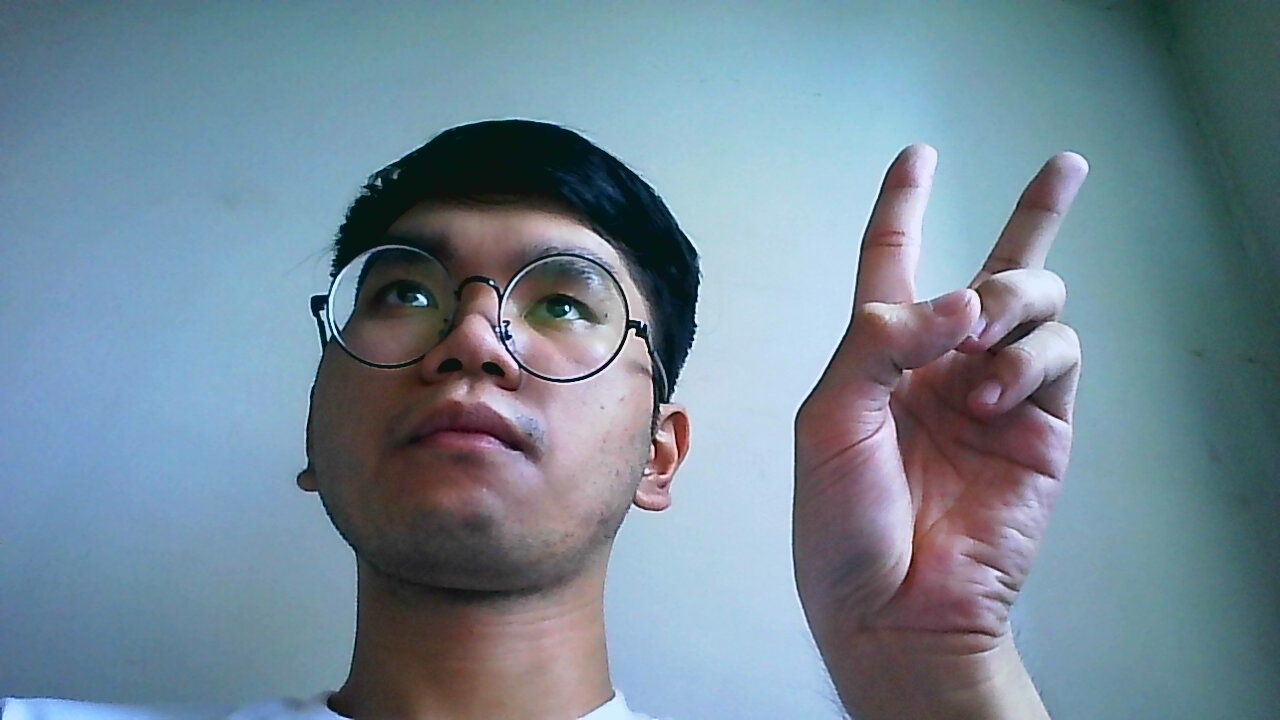peace: (793, 141, 1091, 632)
